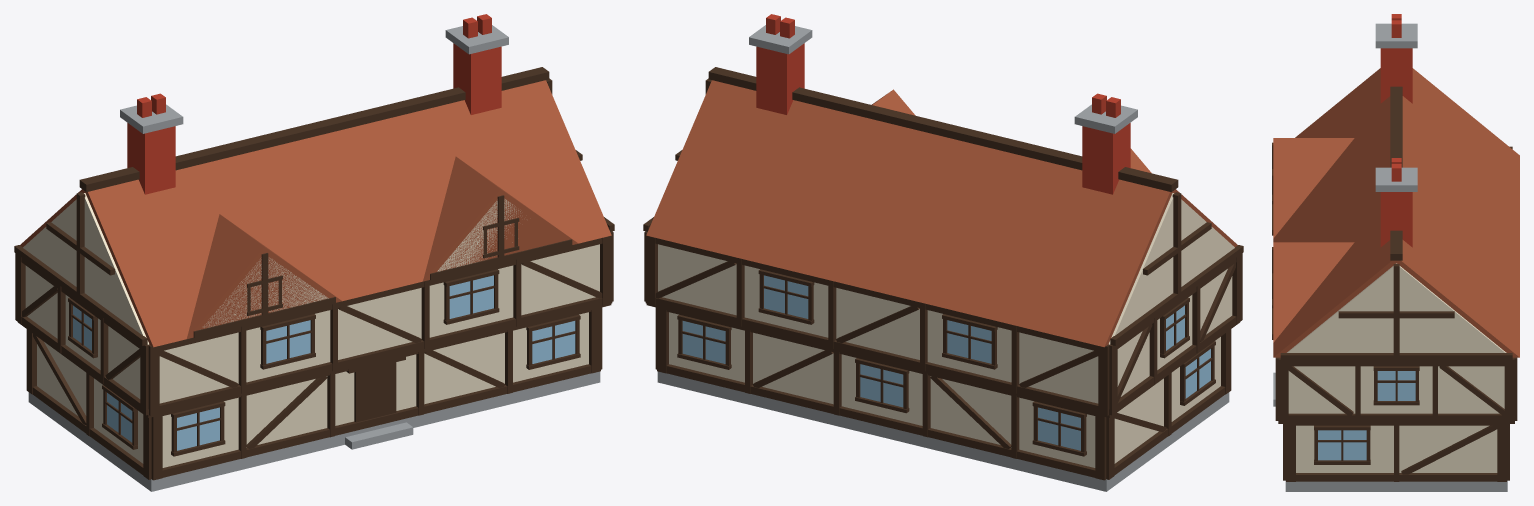
Rendered from house-2x1-2f-third-tudor-a-solar.glb.
3 views of the same model, side by side, from view 1: azimuth 30°, elevation 25°; view 2: azimuth 150°, elevation 25°; view 3: azimuth 270°, elevation 25° (orthographic). The views are drawn at different scales.
Parts seen in each view (by area): view 1: house-2x1-2f-third-tudor-a-solar; view 2: house-2x1-2f-third-tudor-a-solar; view 3: house-2x1-2f-third-tudor-a-solar.
Part boxes in pixels (left/top/right/bottom): house-2x1-2f-third-tudor-a-solar: left=14, top=14, right=614, bottom=491; house-2x1-2f-third-tudor-a-solar: left=643, top=14, right=1243, bottom=491; house-2x1-2f-third-tudor-a-solar: left=1272, top=14, right=1519, bottom=491.
Bounding box in the file's own units: 2 × 1.35 × 1.
Materials: 1 (1 with a texture image).
